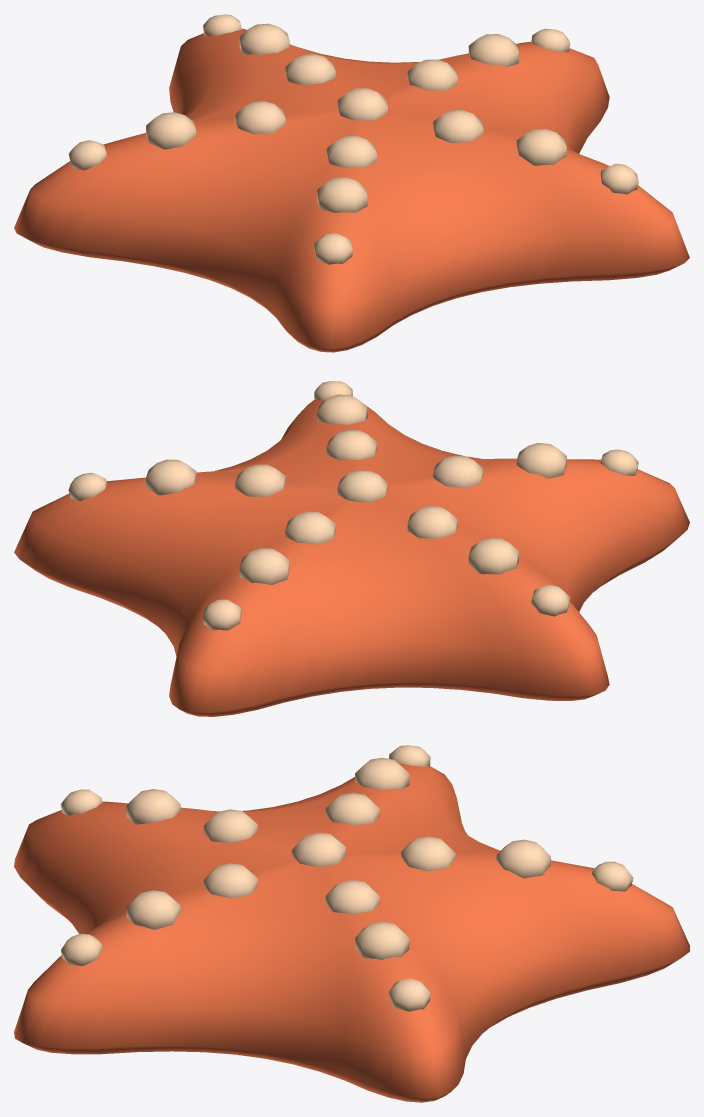
The model's file is estrela-do-mar.glb.
The picture shows the model from 3 angles, top to bottom: view 1: azimuth 30°, elevation 25°; view 2: azimuth 150°, elevation 25°; view 3: azimuth 270°, elevation 25°; orthographic projection. The views are drawn at different scales.
Visible parts, largest first — view 1: estrela-do-mar; view 2: estrela-do-mar; view 3: estrela-do-mar.
Part boxes in pixels (<box>): estrela-do-mar: <box>14,14,689,352</box>; estrela-do-mar: <box>14,381,689,716</box>; estrela-do-mar: <box>14,745,689,1102</box>.
Size of the model in its own units: 0.1041 by 0.0239 by 0.0992.
